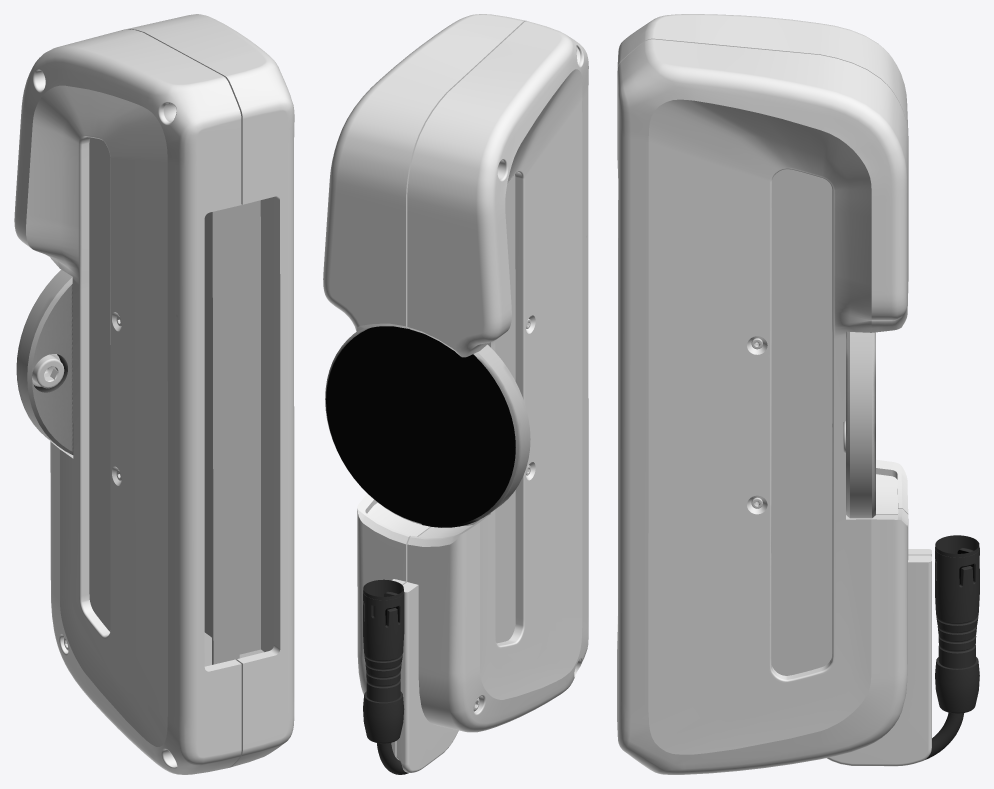
The model's file is hand.glb.
The picture shows the model from 3 angles, left to right: view 1: azimuth 30°, elevation 25°; view 2: azimuth 150°, elevation 25°; view 3: azimuth 270°, elevation 25°; orthographic projection. The views are drawn at different scales.
Parts seen in each view (by area): view 1: hand; view 2: hand; view 3: hand.
Part boxes in pixels (x1,y1,x2,y2): hand: (14, 14, 294, 774); hand: (323, 14, 588, 774); hand: (617, 14, 979, 774).
Bounding box in the file's own units: 0.0627 × 0.2046 × 0.0928.
1 material, 1 textured.
